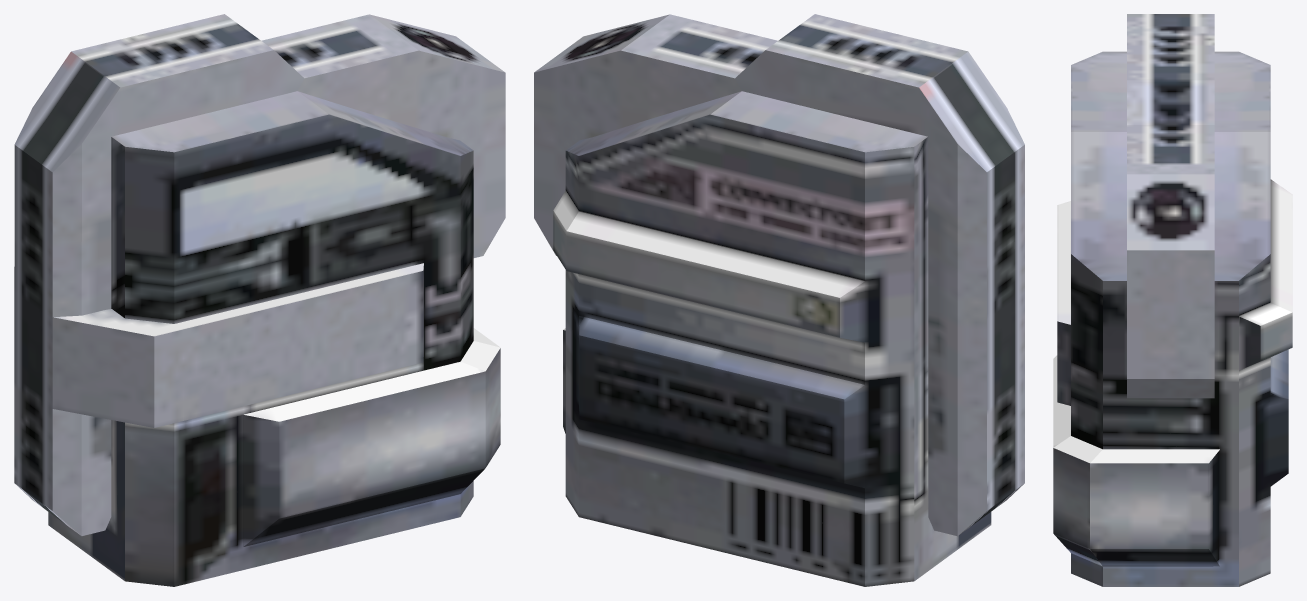
File: eqp_canister_small_s01_l1.fbx
The picture shows the model from 3 angles, left to right: view 1: azimuth 30°, elevation 25°; view 2: azimuth 150°, elevation 25°; view 3: azimuth 270°, elevation 25°; orthographic projection. The views are drawn at different scales.
Visible parts, largest first — view 1: mesh_node; view 2: mesh_node; view 3: mesh_node.
Part boxes in pixels (x1,y1,x2,y2): mesh_node: (14, 14, 505, 586); mesh_node: (534, 14, 1024, 586); mesh_node: (1053, 14, 1292, 586).
Size of the model in its own units: 0.1218 by 0.1253 by 0.0637.
